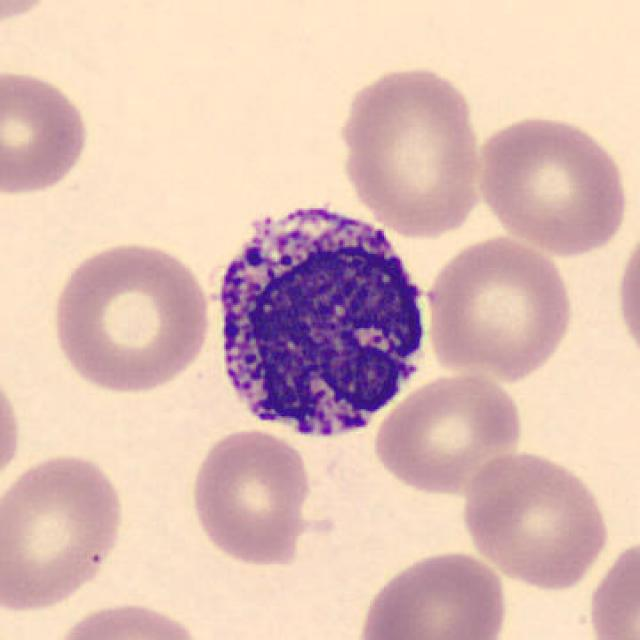Basophil: (203, 187, 441, 453)
RBC: (46, 236, 215, 397), (334, 62, 486, 240), (471, 110, 631, 258), (421, 232, 578, 382), (459, 446, 613, 592), (0, 450, 130, 615), (370, 369, 526, 497), (185, 427, 315, 568), (354, 545, 512, 640), (0, 65, 92, 199), (46, 597, 208, 640), (585, 534, 638, 640), (611, 213, 640, 375), (0, 358, 25, 495), (0, 0, 64, 28)
